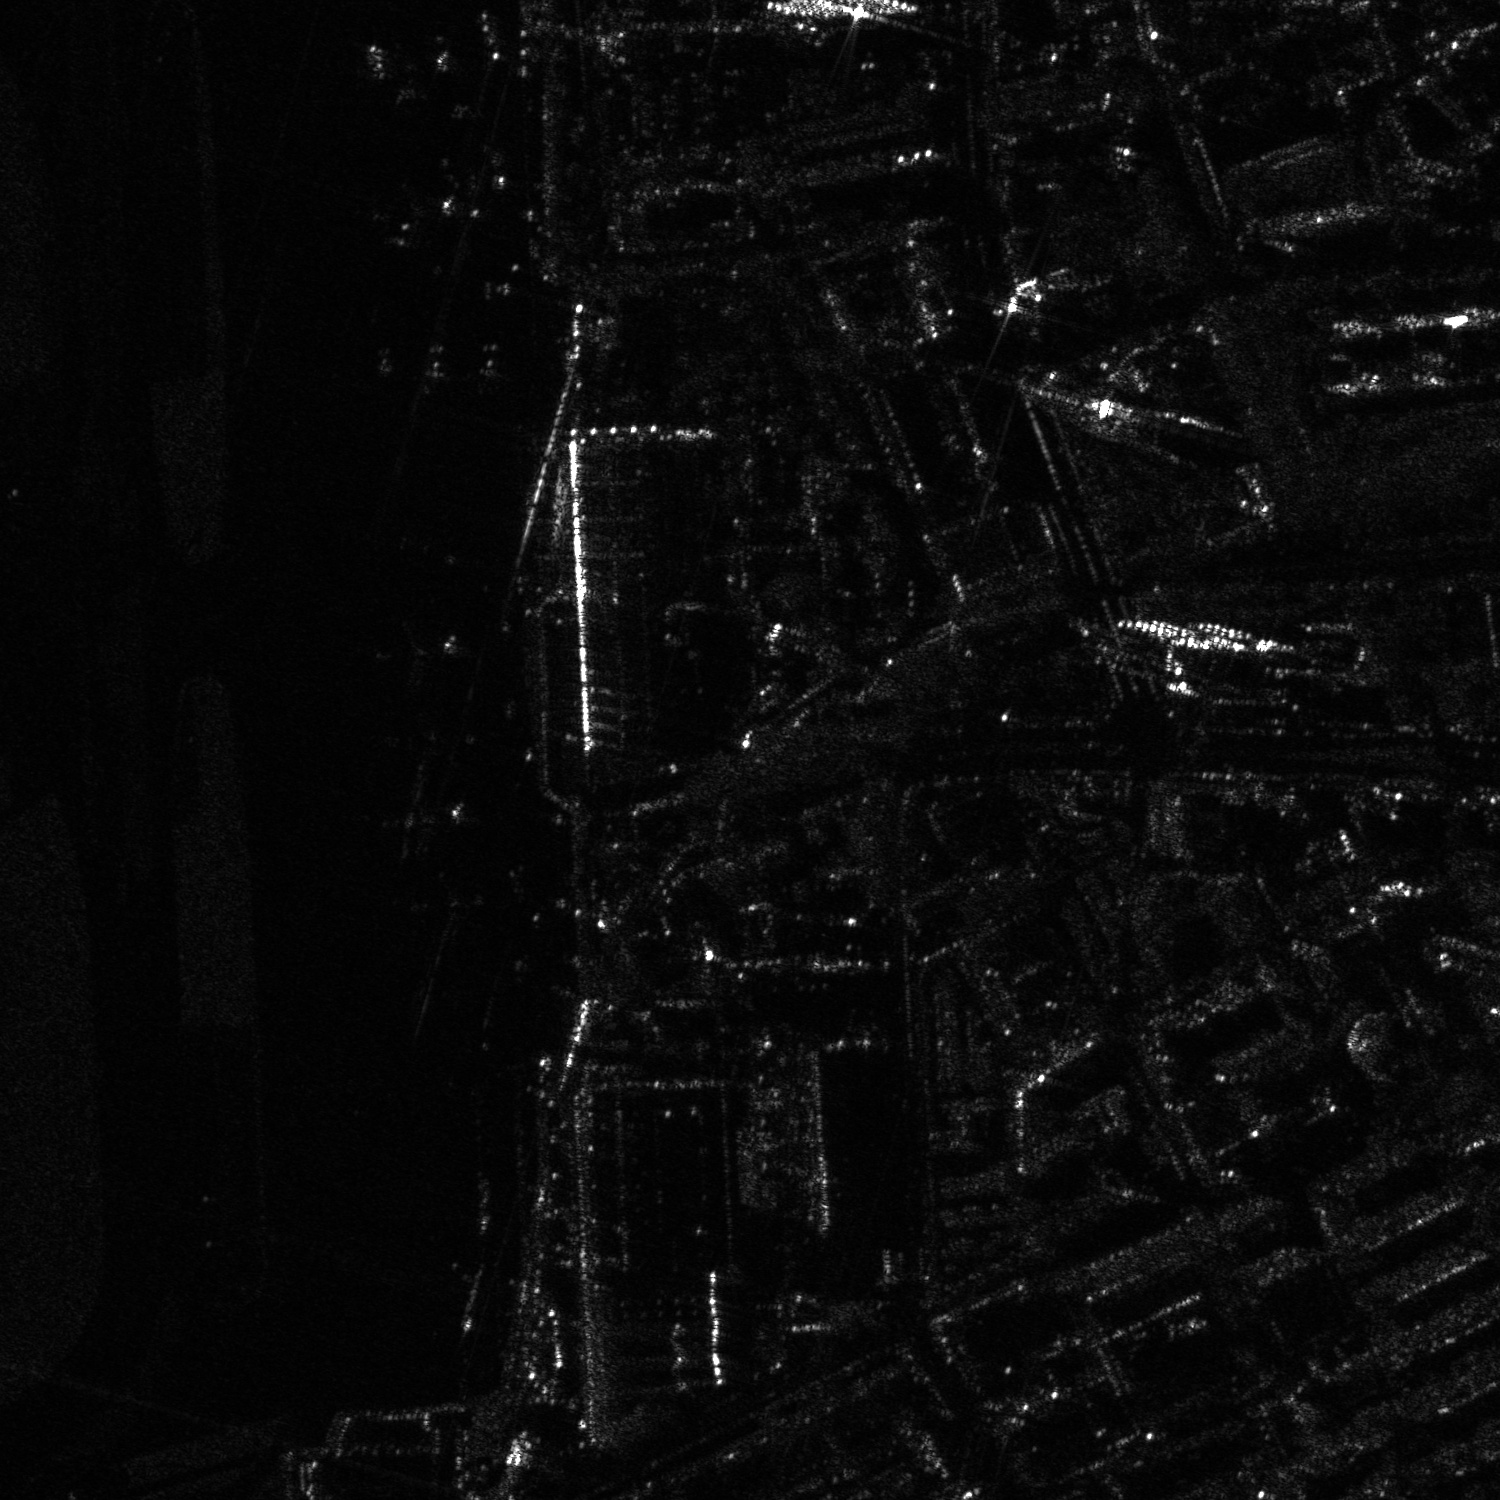A220: (365, 768, 475, 863), (365, 621, 464, 685)
ARJ21: (413, 870, 490, 944)
other: (467, 343, 511, 397), (419, 346, 455, 396)
